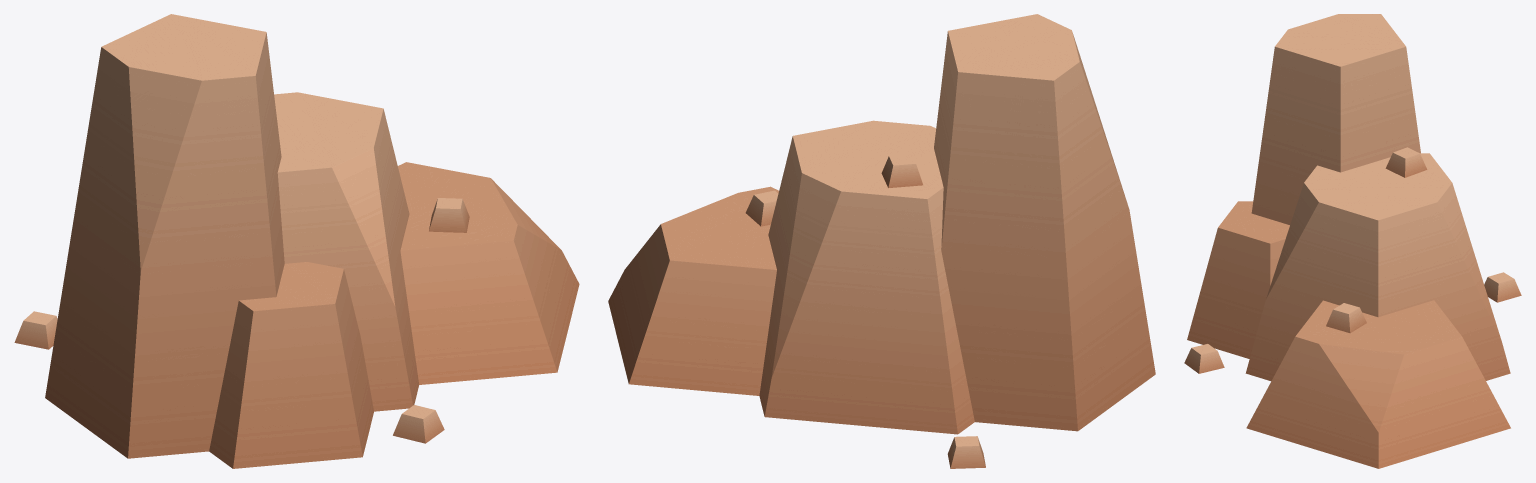
File: rock-sand-c.glb
3 views of the same model, side by side, from view 1: azimuth 30°, elevation 25°; view 2: azimuth 150°, elevation 25°; view 3: azimuth 270°, elevation 25° (orthographic). The views are drawn at different scales.
Parts seen in each view (by area): view 1: rock-sand-c; view 2: rock-sand-c; view 3: rock-sand-c.
Part boxes in pixels (box(x1,y1,x2,y2)): rock-sand-c: box(14, 14, 579, 468); rock-sand-c: box(608, 14, 1155, 468); rock-sand-c: box(1184, 14, 1521, 468).
Size of the model in its own units: 0.7837 by 0.51 by 0.5691.
1 material, 1 textured.
